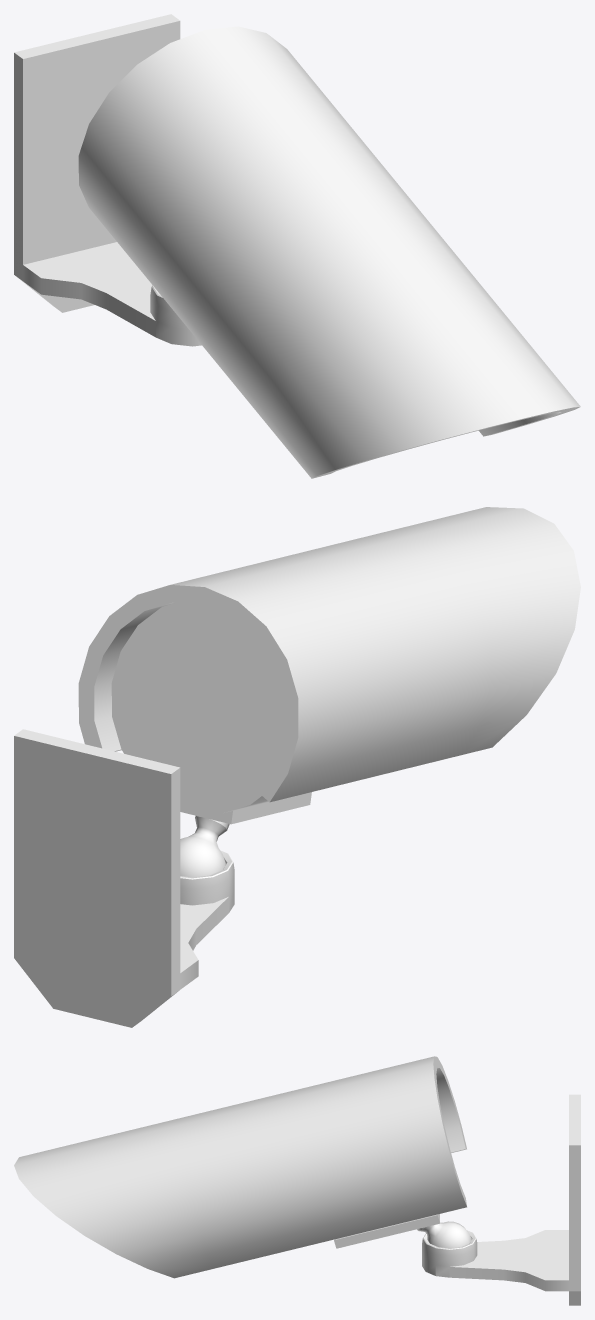
The model's file is Camera.fbx.
3 renders of one model, top to bottom at view 1: azimuth 30°, elevation 25°; view 2: azimuth 150°, elevation 25°; view 3: azimuth 270°, elevation 25°, orthographic. The views are drawn at different scales.
Parts seen in each view (by area): view 1: polySurface40, pCube49; view 2: polySurface40, pCube49; view 3: polySurface40, pCube49.
Boxes of the visible parts, <box> form: polySurface40: <box>78,26,580,478</box>; pCube49: <box>14,14,201,346</box>; polySurface40: <box>78,507,580,877</box>; pCube49: <box>14,729,234,1027</box>; polySurface40: <box>14,1056,471,1278</box>; pCube49: <box>422,1094,580,1305</box>.
Bounding box in the file's own units: 34.94 × 53.01 × 119.
2 materials, 2 textured.
